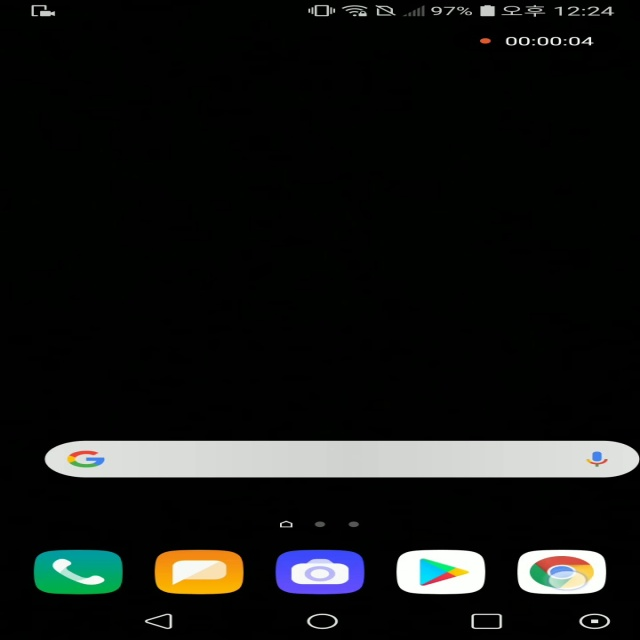Cursor: (545, 570, 590, 592)
